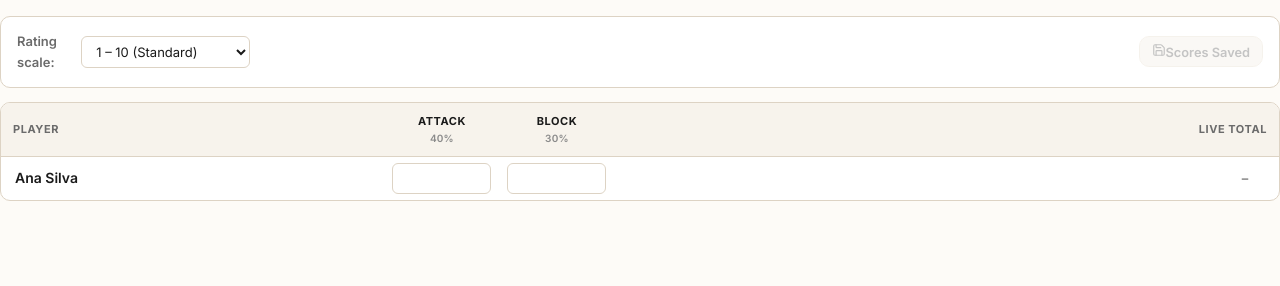
Test case: SpreadsheetScoreGrid editing › refuses to send an empty payload after the coach clears their entry
Type "8" into the field named "Ana Silva Attack" at (442,179), box [392, 163, 491, 194]
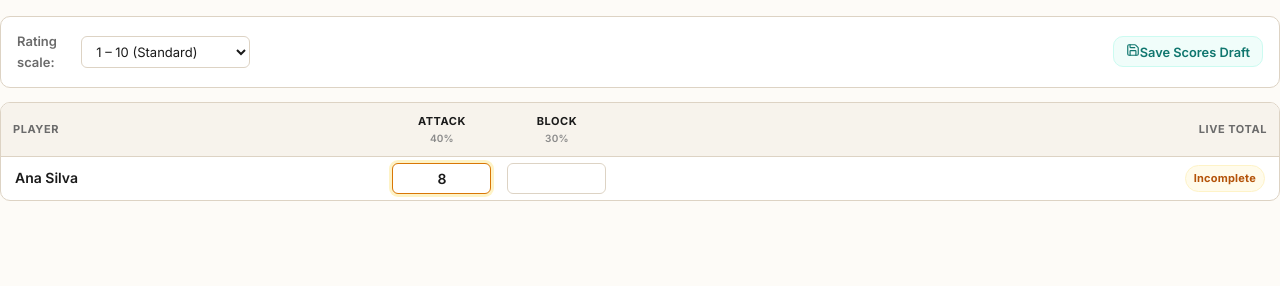
Clear the field named "Ana Silva Attack" at (442,179), box [392, 163, 491, 194]
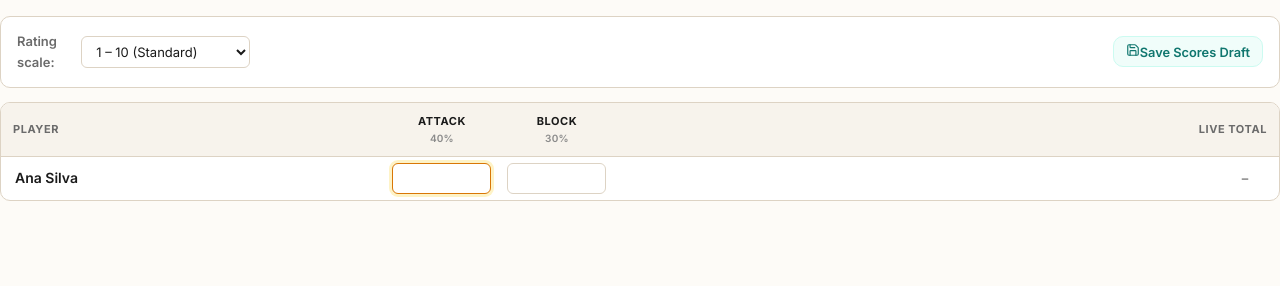
# The grid is dirty (edited) but holds nothing to send.
Click the button "Save Scores Draft" at (1188,52), box [1113, 36, 1263, 67]
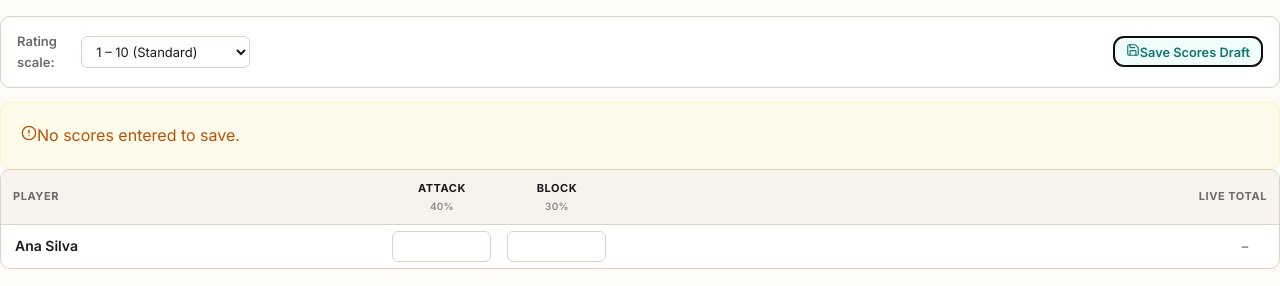
Check: the message shows "No scores entered to save", box [37, 125, 240, 145]
